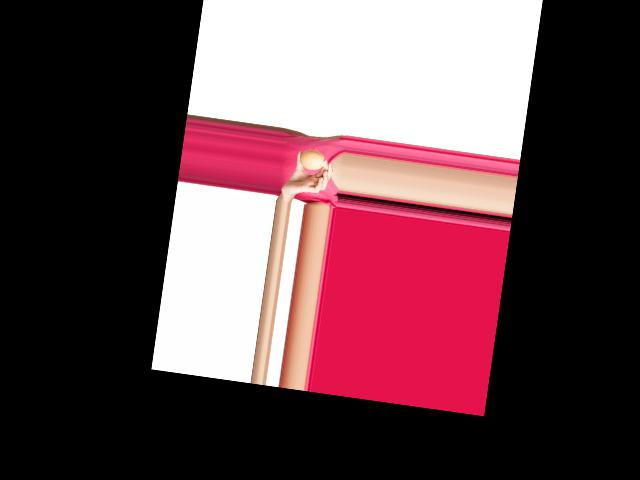egg: (298, 148, 326, 171)
